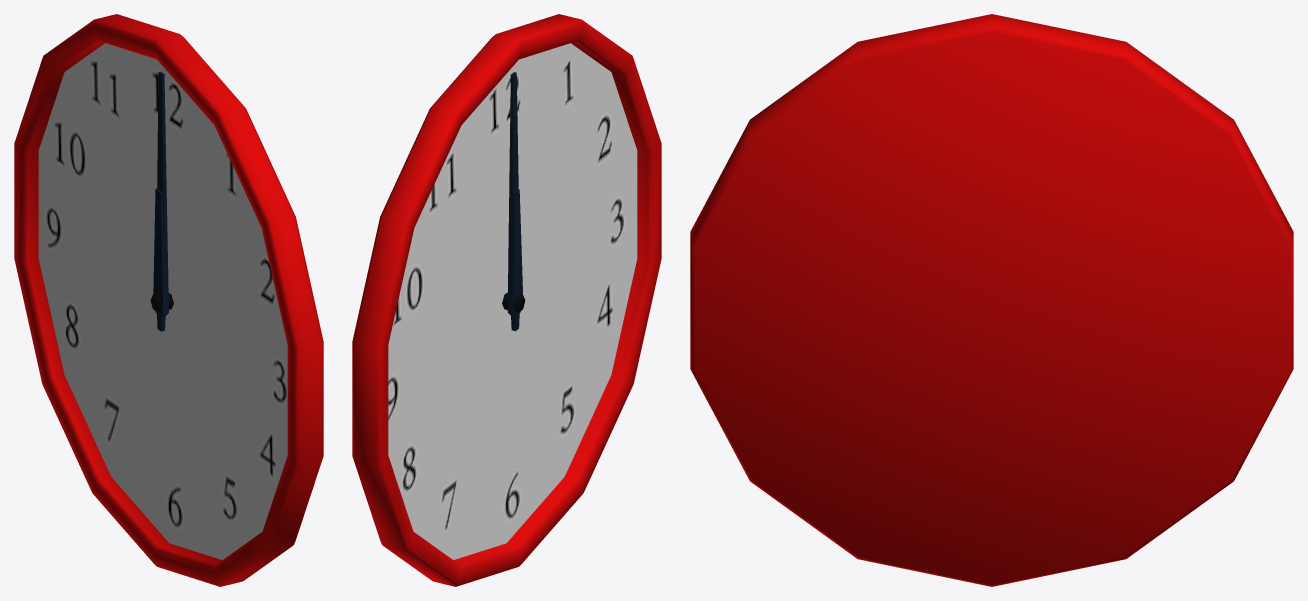
The model's file is clock.fbx.
The picture shows the model from 3 angles, left to right: view 1: azimuth 30°, elevation 25°; view 2: azimuth 150°, elevation 25°; view 3: azimuth 270°, elevation 25°; orthographic projection. The views are drawn at different scales.
Parts seen in each view (by area): view 1: Clock_Analog_A, Clock_Analog_A_Minute, Clock_Analog_A_Hour; view 2: Clock_Analog_A, Clock_Analog_A_Minute, Clock_Analog_A_Hour; view 3: Clock_Analog_A.
Boxes of the visible parts, x1,y1,x2,y2 form: Clock_Analog_A: (14,14,323,586); Clock_Analog_A_Minute: (157,71,168,330); Clock_Analog_A_Hour: (153,188,167,331); Clock_Analog_A: (352,14,661,586); Clock_Analog_A_Minute: (507,72,518,330); Clock_Analog_A_Hour: (509,189,522,331); Clock_Analog_A: (690,14,1293,586).
Bounding box in the file's own units: 1.79 × 30.85 × 30.07.
Materials: 1 (1 with a texture image).
